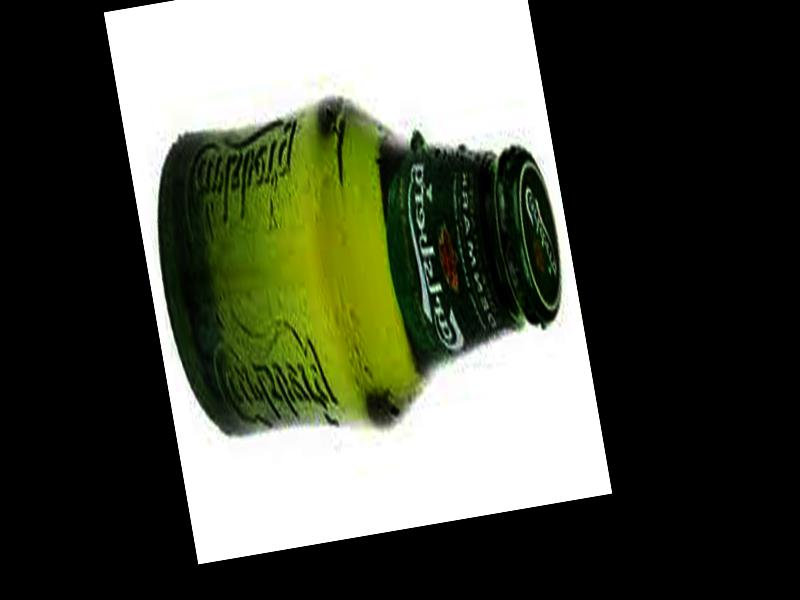Beer: (136, 67, 581, 451)
